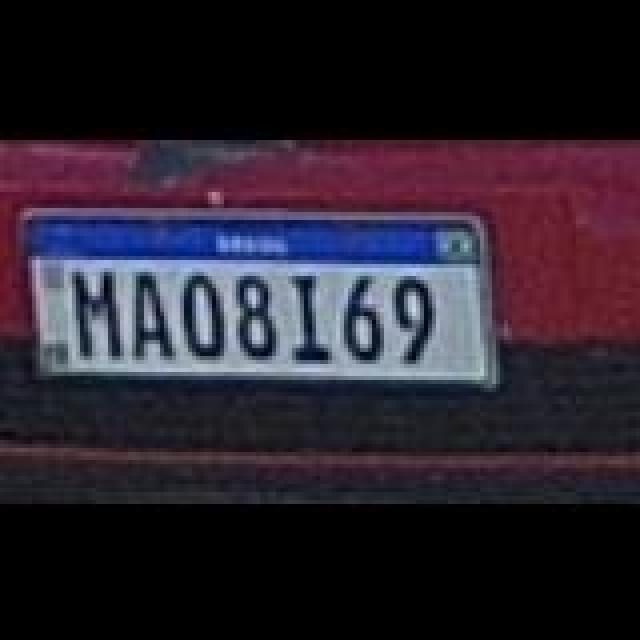6: (346, 270, 390, 362)
8: (230, 272, 282, 360)
9: (392, 276, 440, 364)
A: (128, 266, 176, 358)
I: (288, 270, 336, 362)
M: (70, 266, 122, 358)
O: (186, 268, 230, 356)
